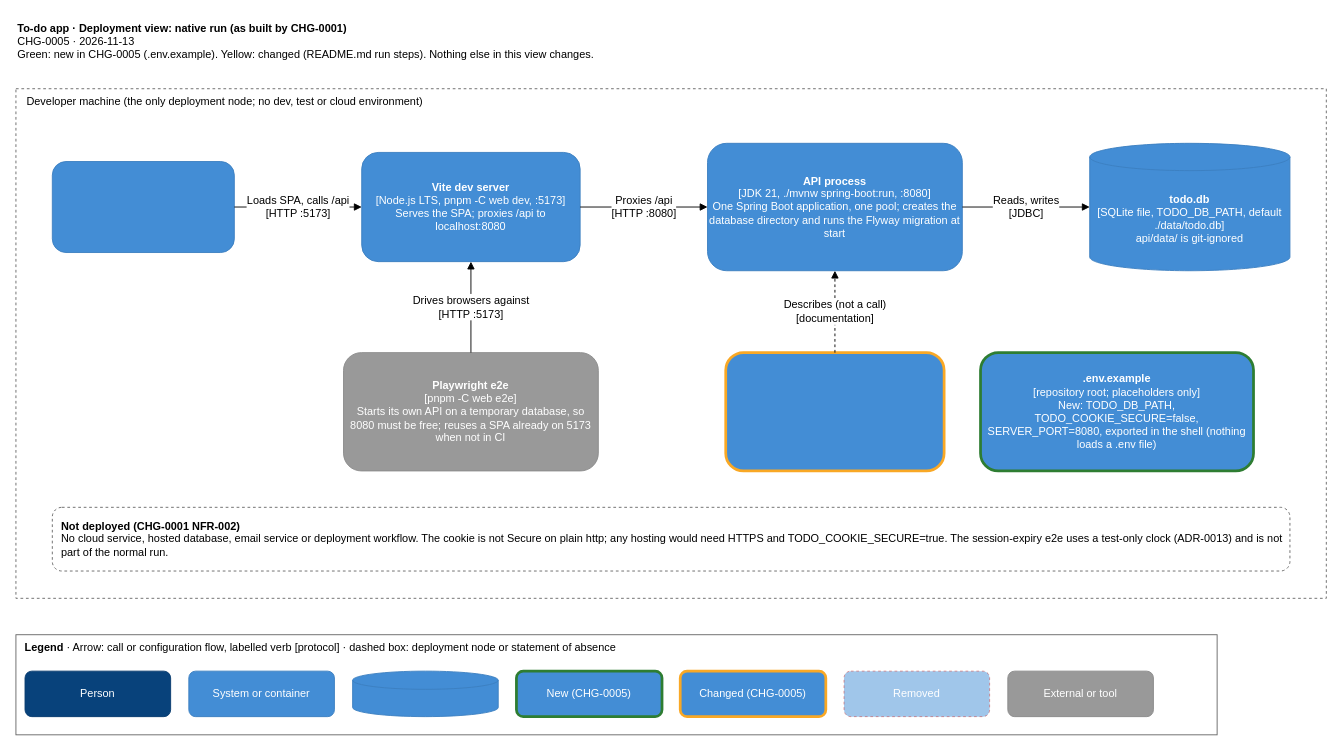
This 1342x751 diagram has some shape labels left out. The box of each missing label's shape, as (x1, y1, x2, y2) in pixels:
Datastore: (352, 670, 498, 717)
README.md [repository root, exists] Changed: gains the run steps: (724, 351, 945, 472)
Web browser [any current browser] Runs the SPA; keeps the todo_session cookie: (51, 161, 234, 253)
